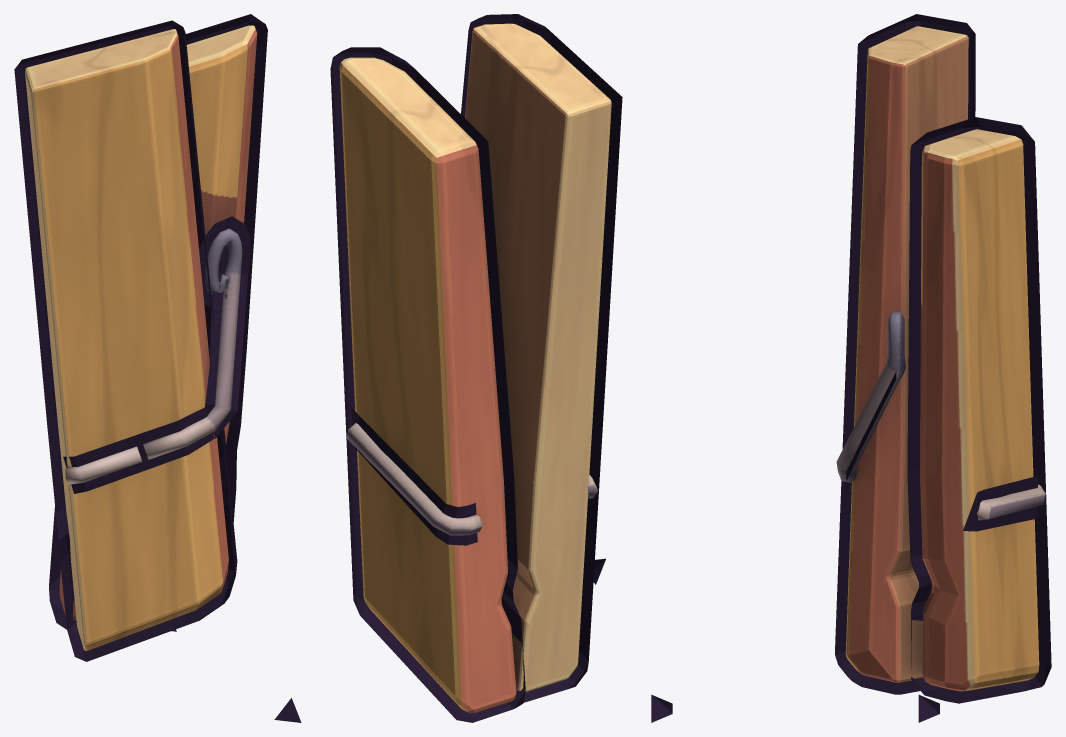
File: Clothespin.glb
The picture shows the model from 3 angles, left to right: view 1: azimuth 30°, elevation 25°; view 2: azimuth 150°, elevation 25°; view 3: azimuth 270°, elevation 25°; orthographic projection. The views are drawn at different scales.
Parts seen in each view (by area): view 1: Clothespin, Clothespin_Outline; view 2: Clothespin, Clothespin_Outline; view 3: Clothespin, Clothespin_Outline.
Boxes of the visible parts, x1=… form: Clothespin: x1=25, y1=25, x2=257, y2=650; Clothespin_Outline: x1=14, y1=14, x2=267, y2=661; Clothespin: x1=339, y1=23, x2=611, y2=713; Clothespin_Outline: x1=330, y1=14, x2=622, y2=722; Clothespin: x1=836, y1=26, x2=1045, y2=691; Clothespin_Outline: x1=835, y1=14, x2=1051, y2=703.
Size of the model in its own units: 1.21 by 2.75 by 1.5.
2 materials, 2 textured.
